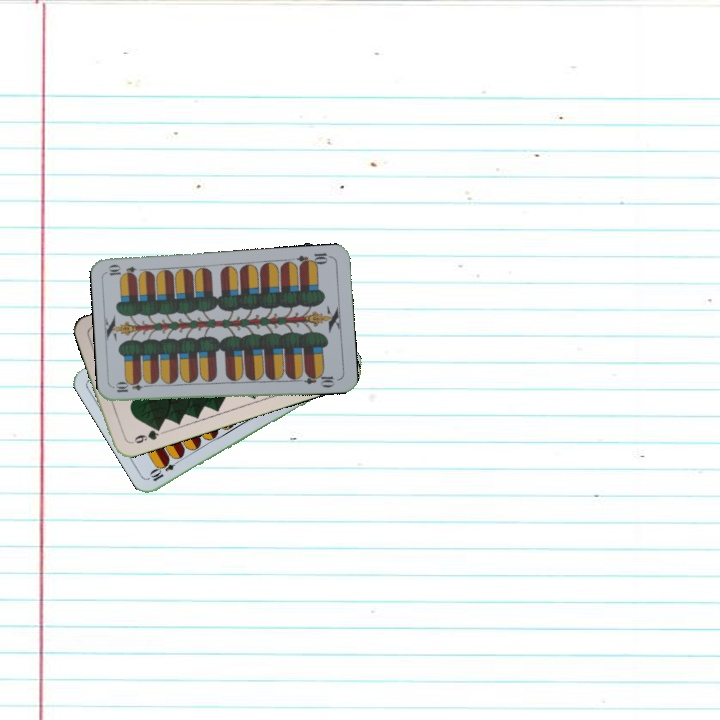E10: (146, 454, 183, 484), (293, 249, 334, 269), (112, 379, 153, 395)
G9: (126, 423, 164, 446)
